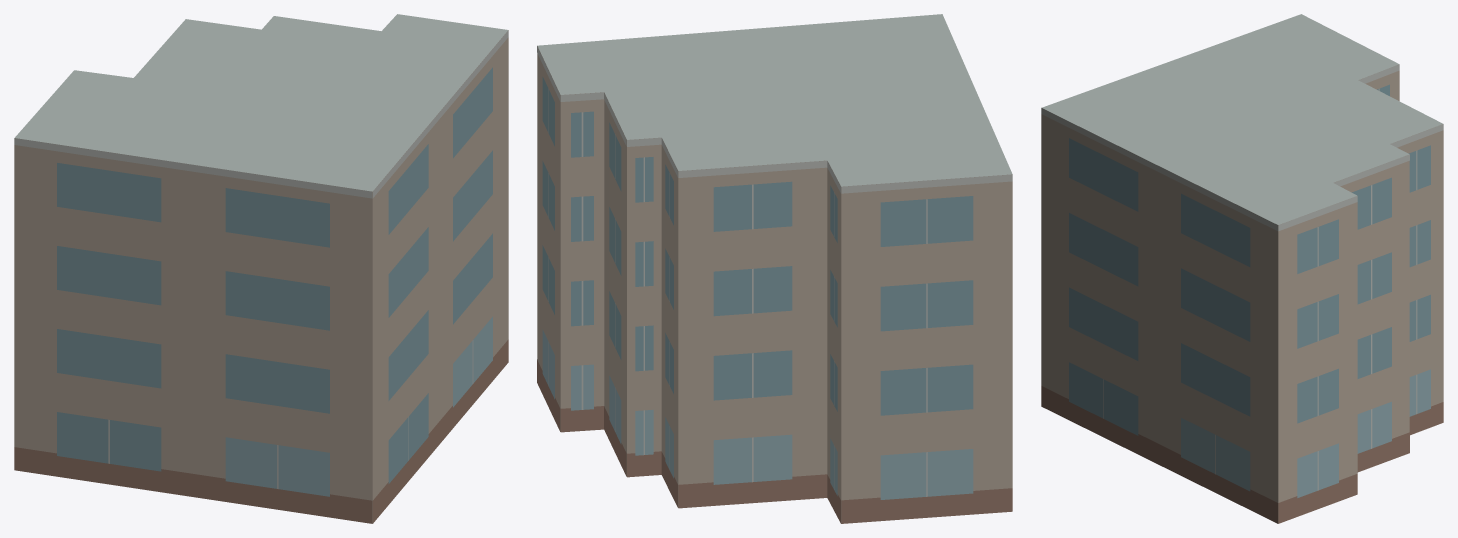
File: survey-upis-32956869.glb
3 renders of one model, left to right at view 1: azimuth 30°, elevation 25°; view 2: azimuth 150°, elevation 25°; view 3: azimuth 270°, elevation 25°, orthographic. The views are drawn at different scales.
Parts seen in each view (by area): view 1: survey-upis-32956869.tmp; view 2: survey-upis-32956869.tmp; view 3: survey-upis-32956869.tmp.
Boxes of the visible parts, x1=… form: survey-upis-32956869.tmp: x1=14, y1=14, x2=508, y2=523; survey-upis-32956869.tmp: x1=537, y1=14, x2=1012, y2=523; survey-upis-32956869.tmp: x1=1041, y1=14, x2=1443, y2=523.
Bounding box in the file's own units: 17.59 × 11.6 × 14.16.
